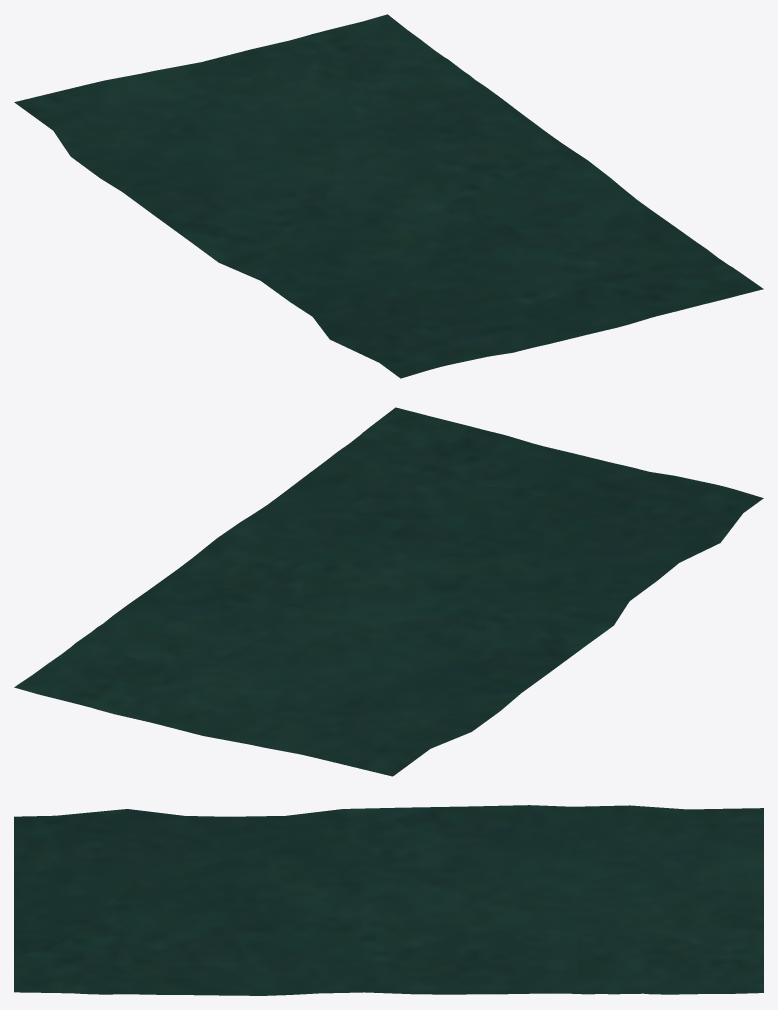
3 renders of one model, top to bottom at view 1: azimuth 30°, elevation 25°; view 2: azimuth 150°, elevation 25°; view 3: azimuth 270°, elevation 25°, orthographic.
Bounding box in the file's own units: 30.79 × 0.5062 × 52.22.
2 materials, 2 textured.
